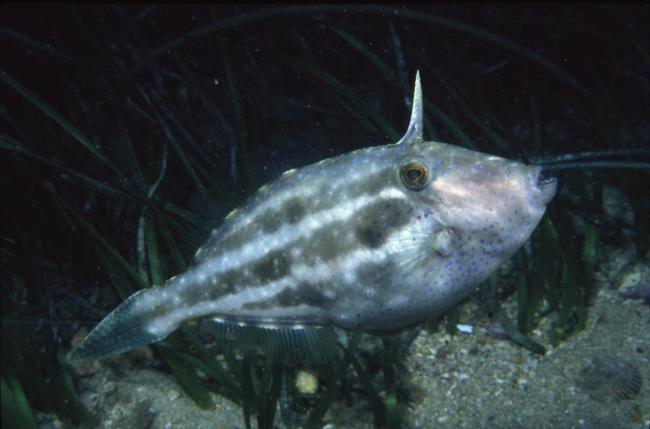fish: (70, 139, 560, 364)
